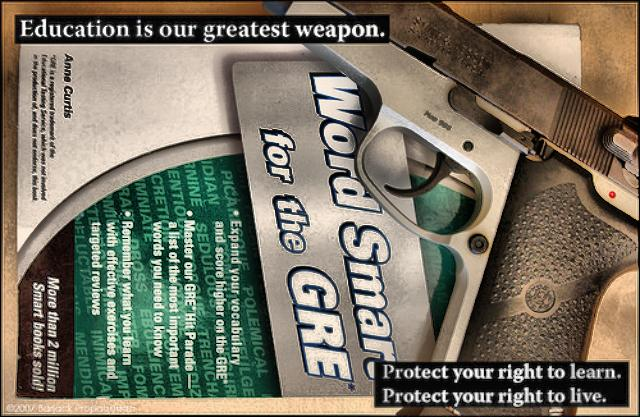pistol: (260, 1, 634, 414)
